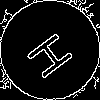H: (25, 25, 83, 81)
